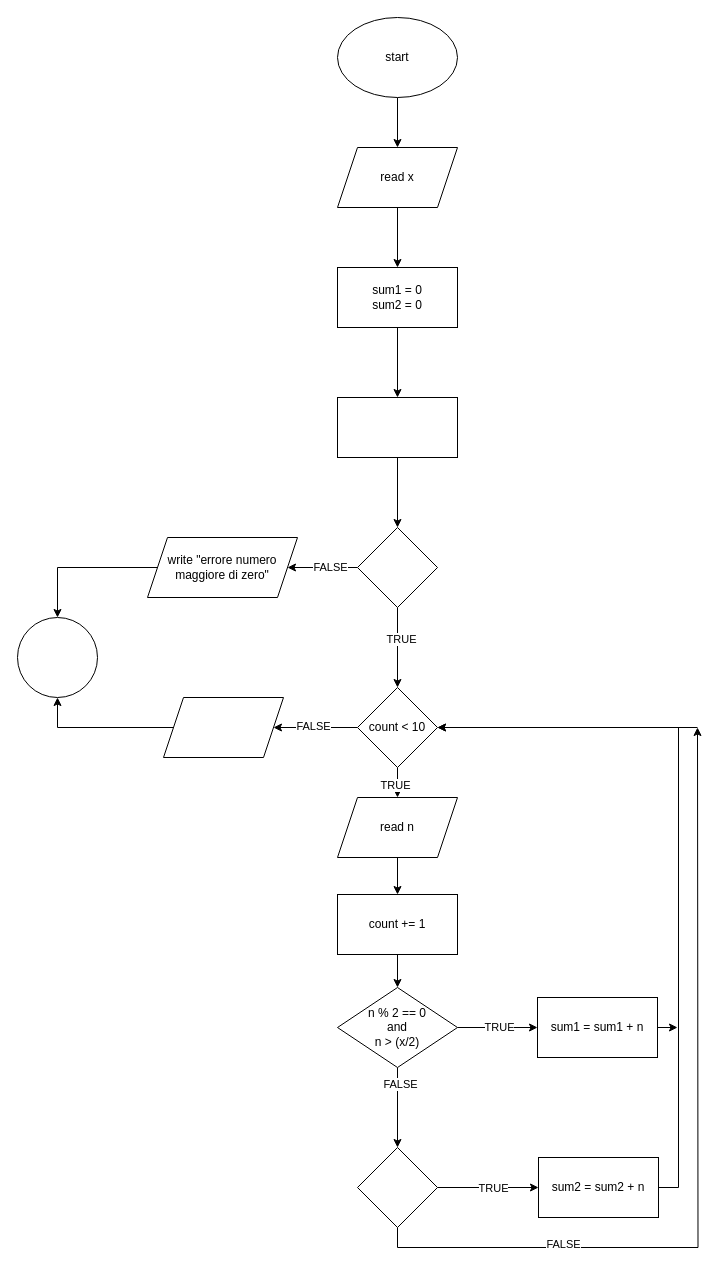
This 724x1273 diagram has some shape labels left out. Each missing label, with the centre of its shape:
count = 0: the point at 397,427
end: the point at 57,657
n < x: the point at 397,1187
Write sum1, sum2: the point at 223,727
x > 0: the point at 397,567
